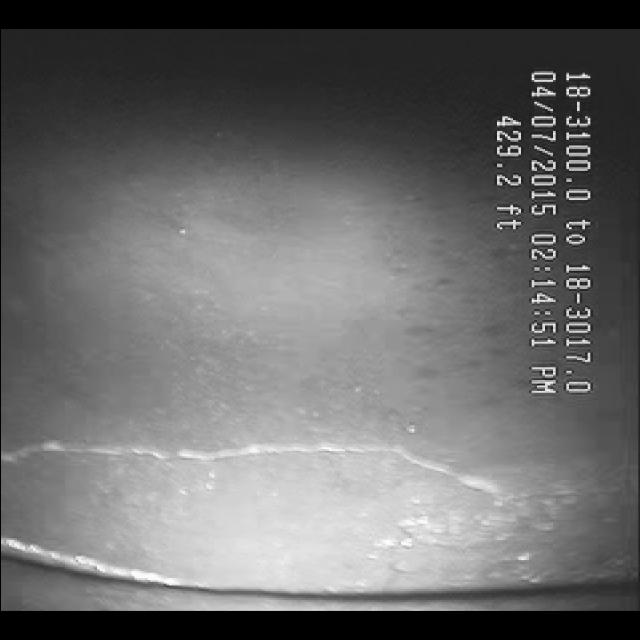Crack: (3, 429, 509, 515)
